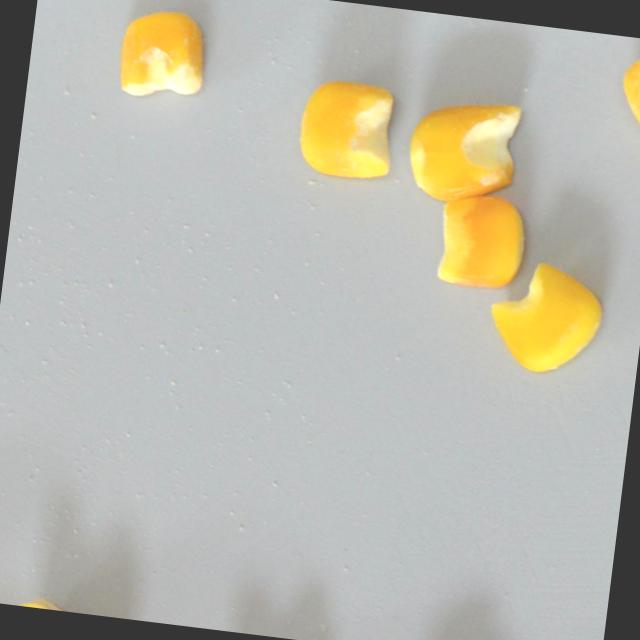no_canjicado: (483, 254, 609, 379), (400, 86, 521, 206), (294, 74, 398, 180), (431, 187, 531, 290), (113, 2, 211, 101)
pelicula: (17, 593, 128, 619), (615, 35, 640, 143)
